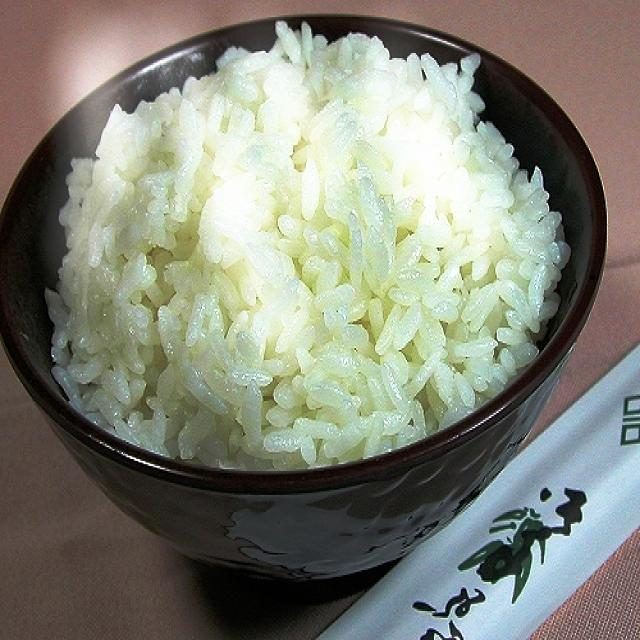rice: (42, 19, 572, 469)
